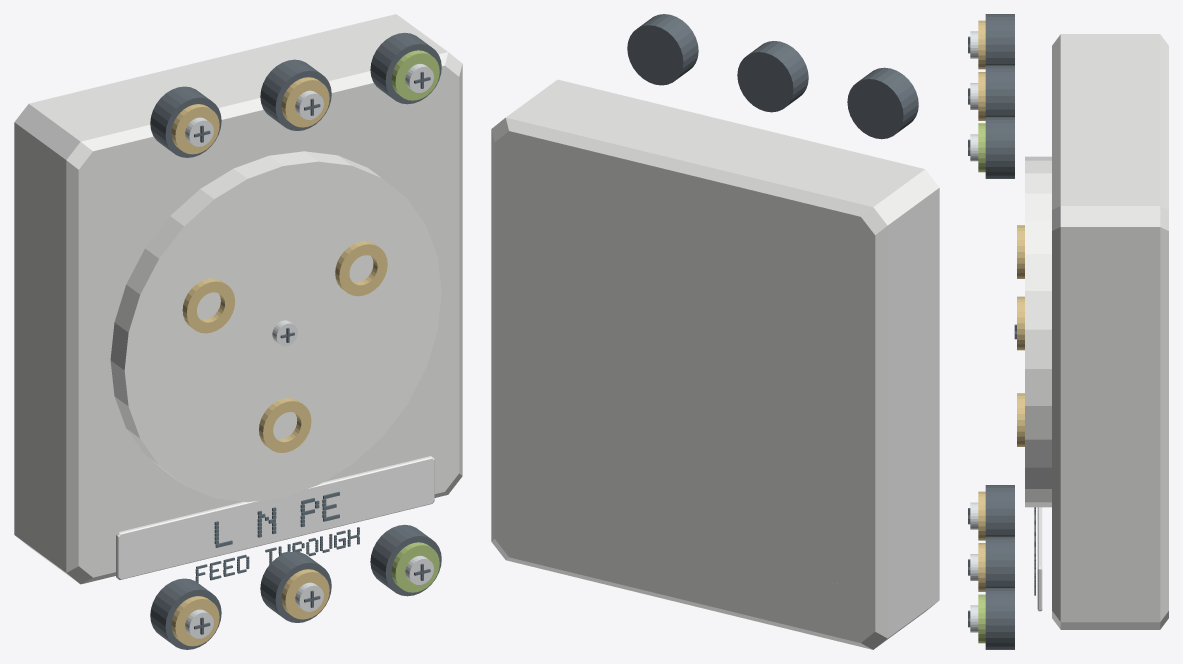
Rendered from socketOutlet.glb.
The picture shows the model from 3 angles, left to right: view 1: azimuth 30°, elevation 25°; view 2: azimuth 150°, elevation 25°; view 3: azimuth 270°, elevation 25°; orthographic projection. The views are drawn at different scales.
Visible parts, largest first — view 1: socketOutlet-detailed; view 2: socketOutlet-detailed; view 3: socketOutlet-detailed.
Part boxes in pixels (bbox=[...]): socketOutlet-detailed: bbox=[14, 14, 462, 649]; socketOutlet-detailed: bbox=[491, 14, 939, 649]; socketOutlet-detailed: bbox=[968, 14, 1168, 649].
Bounding box in the file's own units: 2.21 × 2.94 × 1.01.
